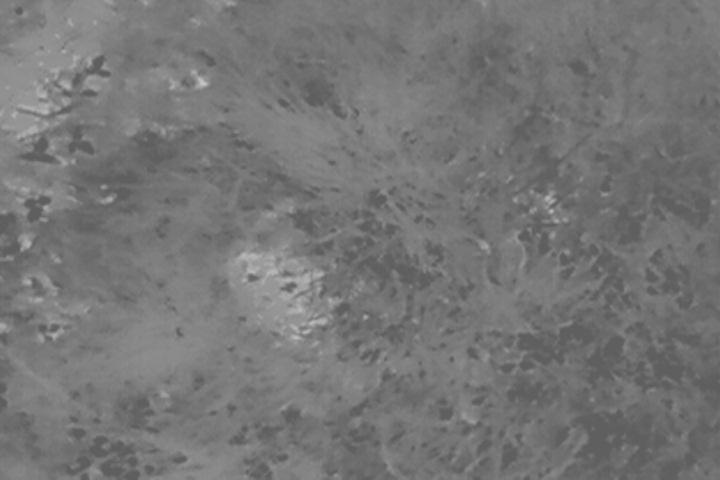landmine: (229, 197, 365, 342)
